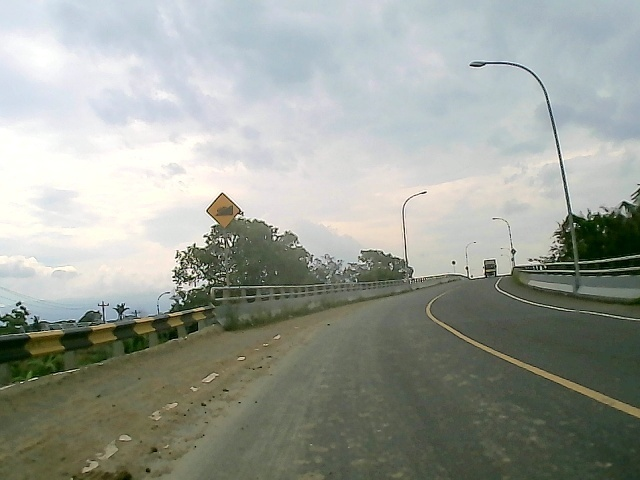Jalanan menanjak: (204, 189, 243, 230)
